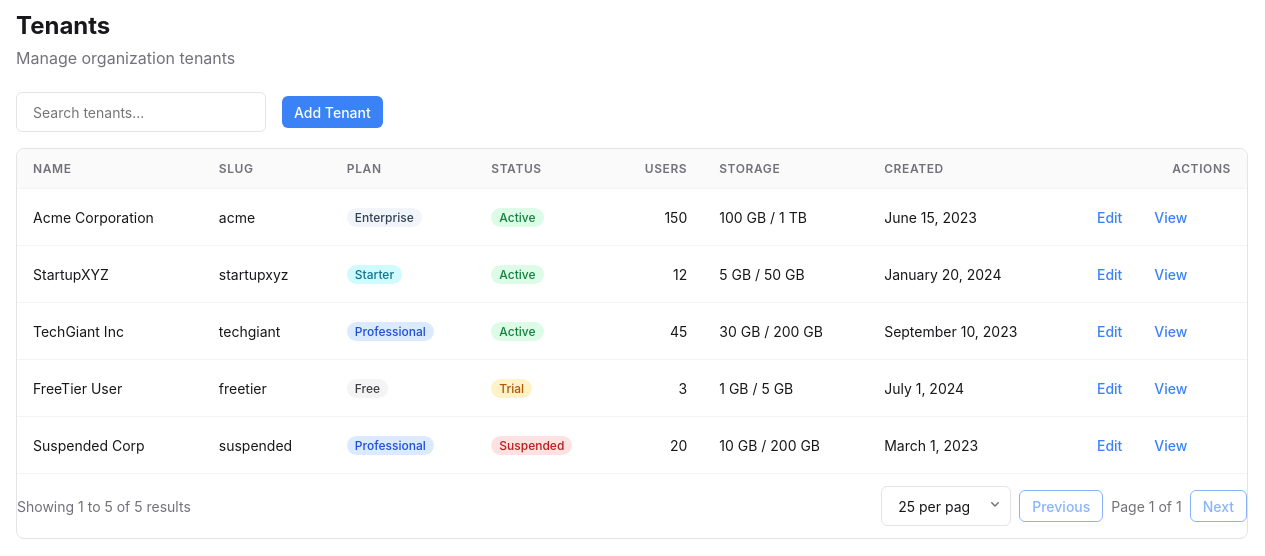
Scenario: Tenants › should filter tenants on search
This screenshot has width=1265, height=556.
Type "Acme" into the field with test id "table-search". click: (141, 112)
box: [16,92,266,132]
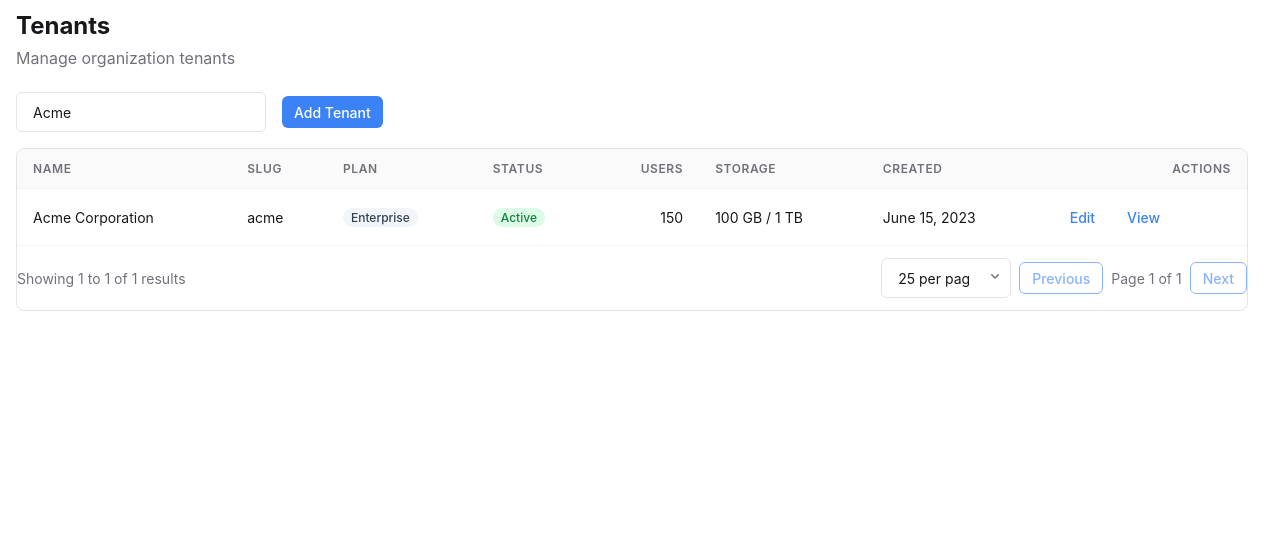
Expected: the text "Acme Corporation" is shown, [17,188,231,246]
Now the text "StartupXYZ" is gone
